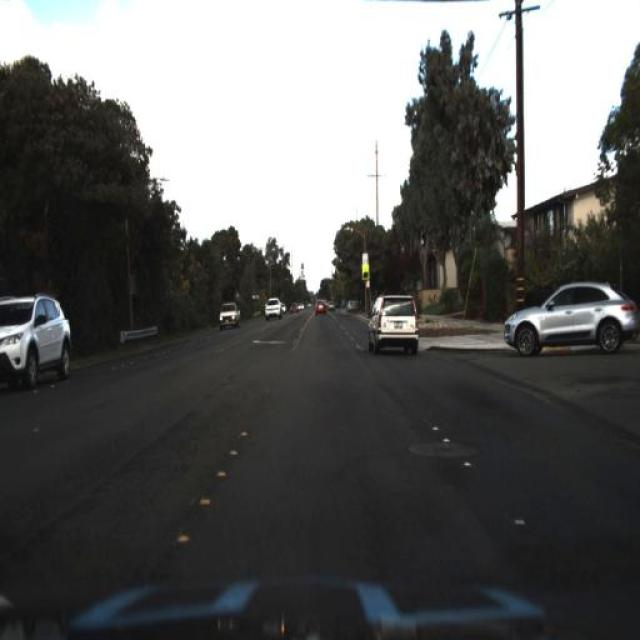car: (504, 276, 638, 359), (0, 292, 76, 390), (368, 288, 423, 361), (218, 299, 243, 331), (218, 302, 243, 332), (263, 293, 283, 323), (262, 294, 282, 320), (314, 294, 330, 314)
